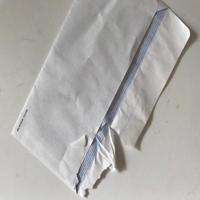paper: (10, 0, 193, 200)
